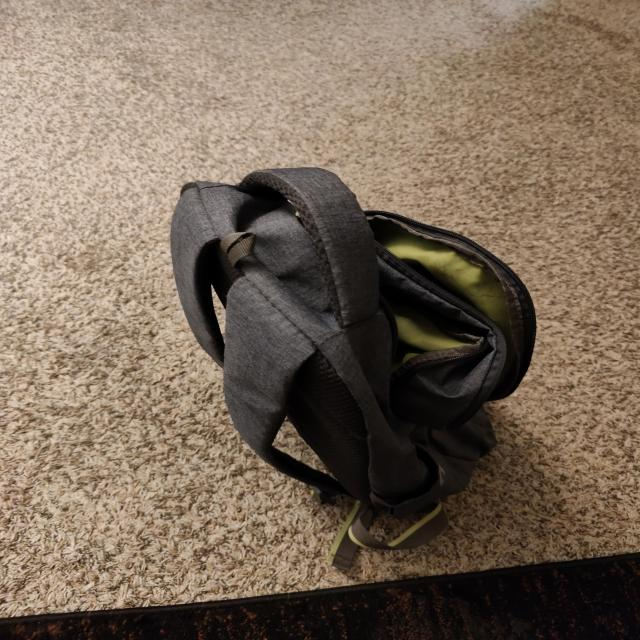bag: (166, 187, 537, 511)
